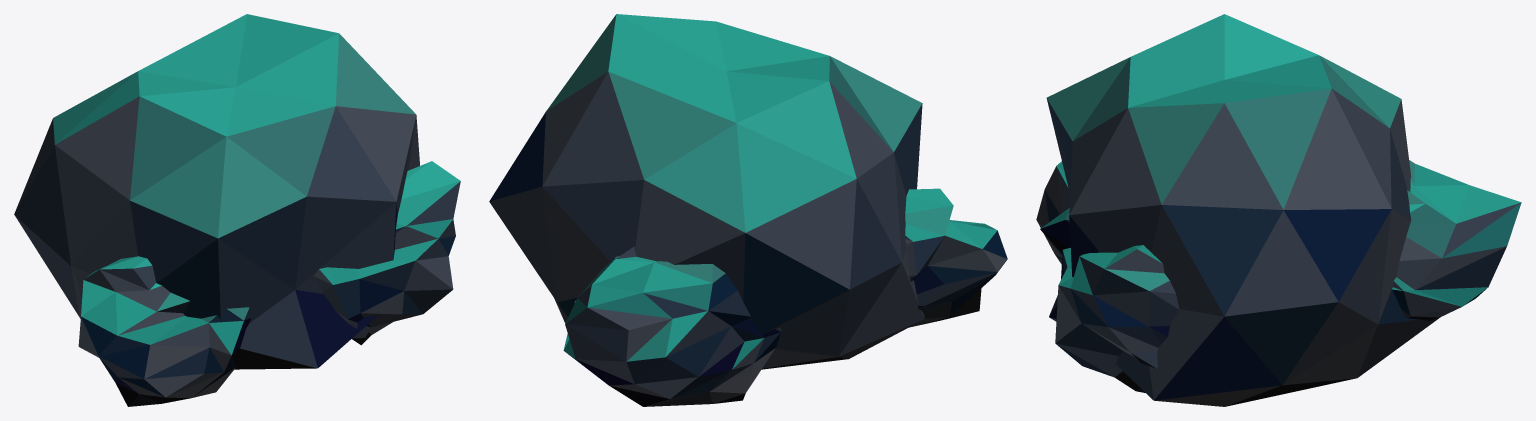
The model's file is batu_boulder_basalt_304978.glb.
3 renders of one model, left to right at view 1: azimuth 30°, elevation 25°; view 2: azimuth 150°, elevation 25°; view 3: azimuth 270°, elevation 25°, orthographic. The views are drawn at different scales.
Visible parts, largest first — view 1: Batu_Jeram_Sungai; view 2: Batu_Jeram_Sungai; view 3: Batu_Jeram_Sungai.
Part boxes in pixels (x1,y1,x2,y2): Batu_Jeram_Sungai: [14, 14, 460, 406]; Batu_Jeram_Sungai: [489, 14, 1007, 406]; Batu_Jeram_Sungai: [1036, 14, 1521, 406].
Bounding box in the file's own units: 6.44 × 4.28 × 6.46.
